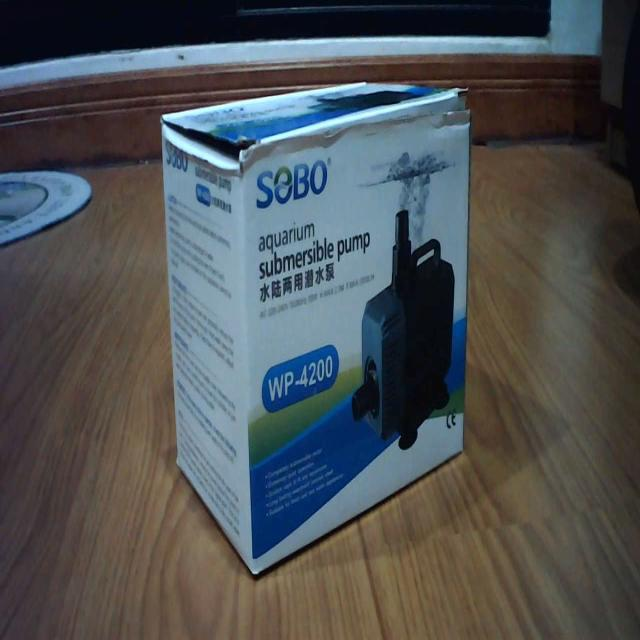SOBO_WP_4200: (147, 61, 484, 585)
